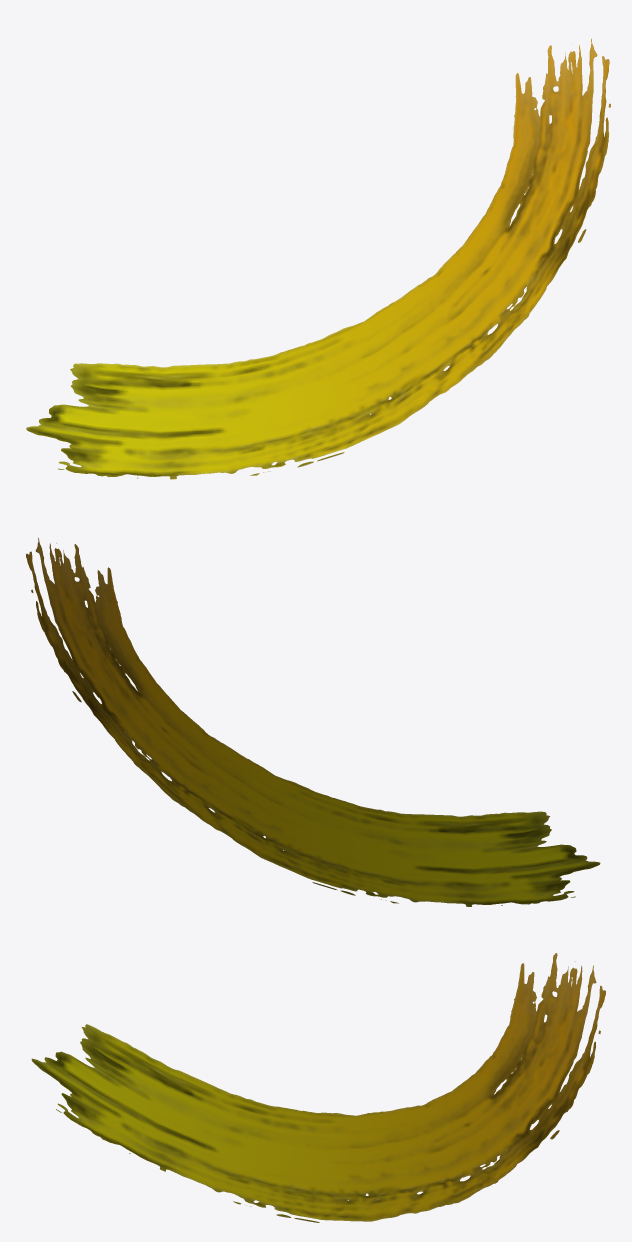
File: effect_xushu_1.FBX
3 views of the same model, one above another, from view 1: azimuth 30°, elevation 25°; view 2: azimuth 150°, elevation 25°; view 3: azimuth 330°, elevation 25° (orthographic). The views are drawn at different scales.
Parts seen in each view (by area): view 1: effect_xushu_1; view 2: effect_xushu_1; view 3: effect_xushu_1.
Part boxes in pixels (x1,y1,x2,y2): effect_xushu_1: (26,38,610,479); effect_xushu_1: (26,538,600,906); effect_xushu_1: (31,953,605,1222).
Bounding box in the file's own units: 219 × 117 × 17.4.
Materials: 1 (1 with a texture image).
